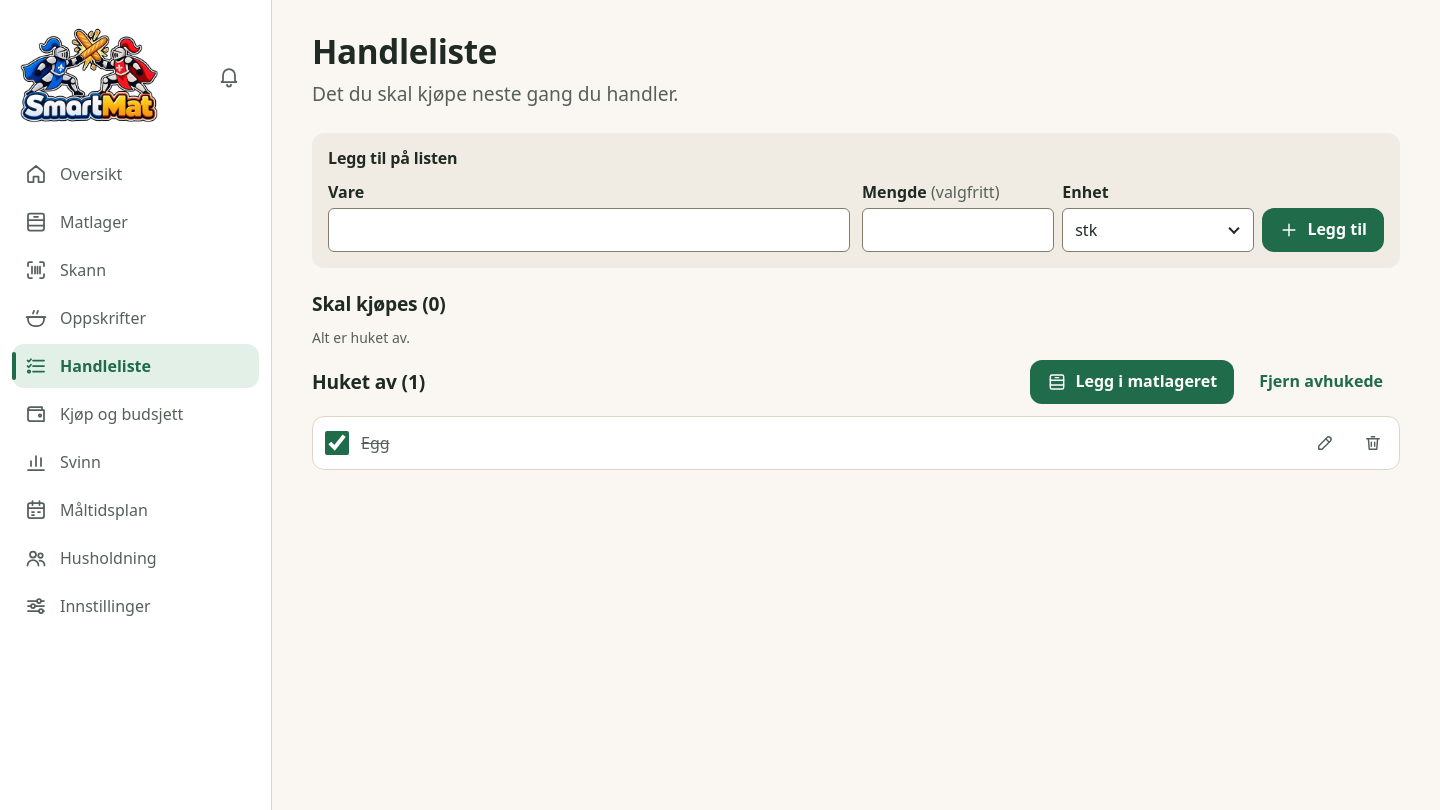
Test: FR-SHOP-001 ticking off (optimistic, KURS-03 delegated events) › unticking a checked line sends checked: false
The image size is (1440, 810).
Step 1. Click the checkbox labelled "Egg" → (337, 443), box top-left (325, 431), bottom-right (349, 455)
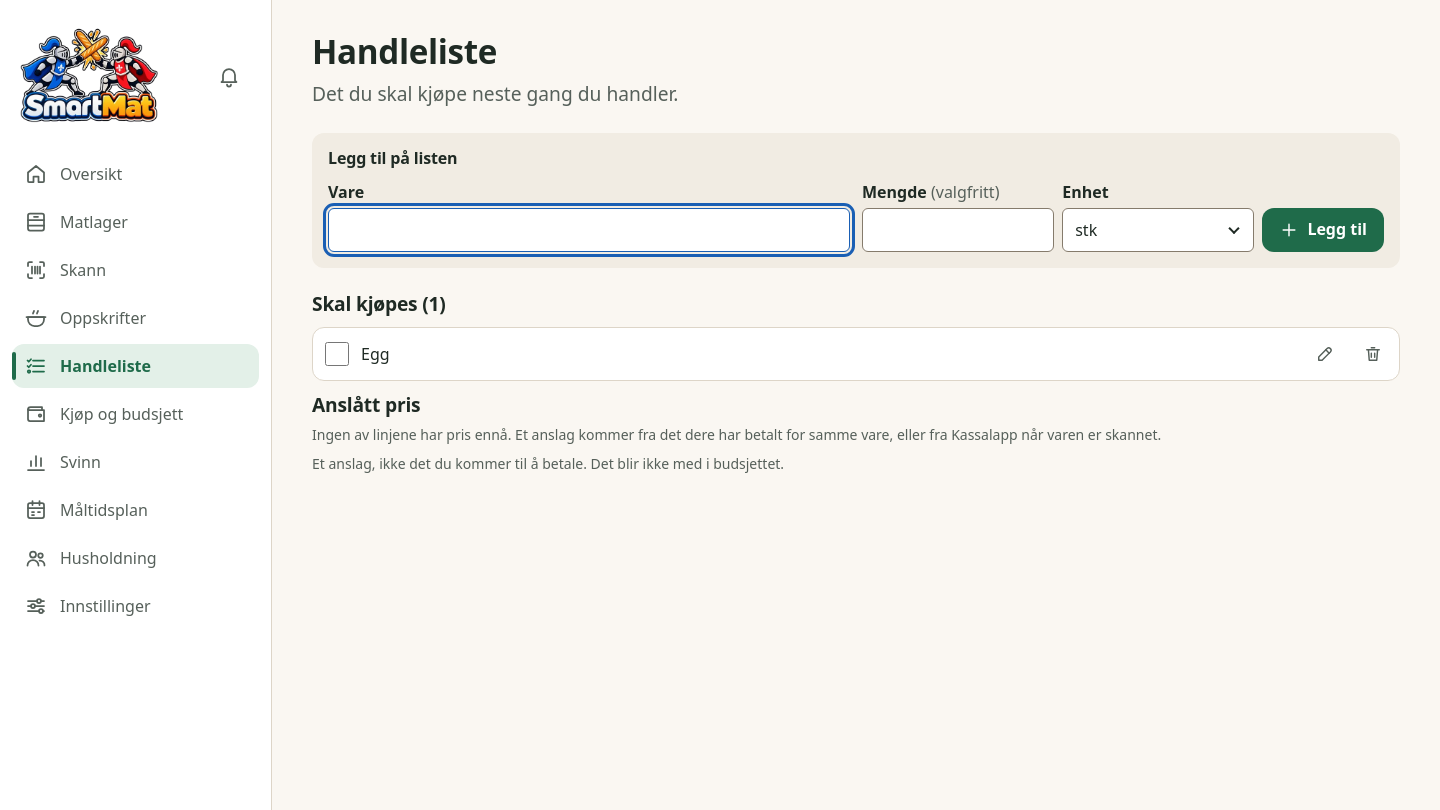
Check: the heading "Skal kjøpes (1)" is shown, box top-left (312, 290), bottom-right (446, 317)
